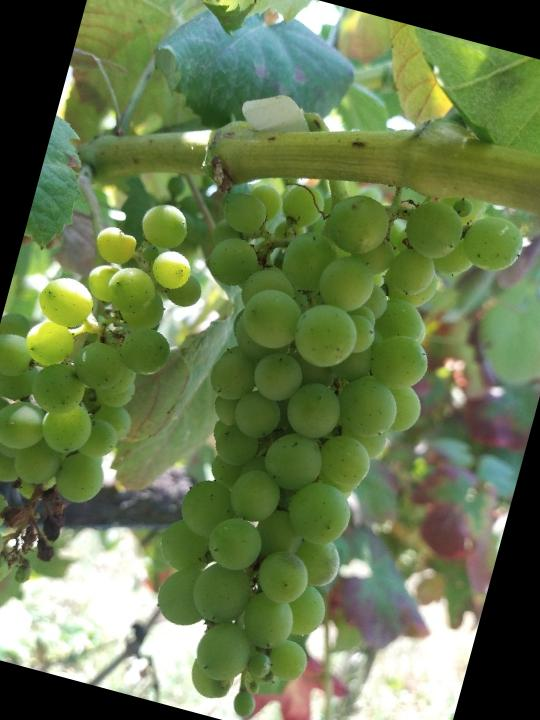grape: (90, 136, 532, 720), (0, 166, 227, 627)
